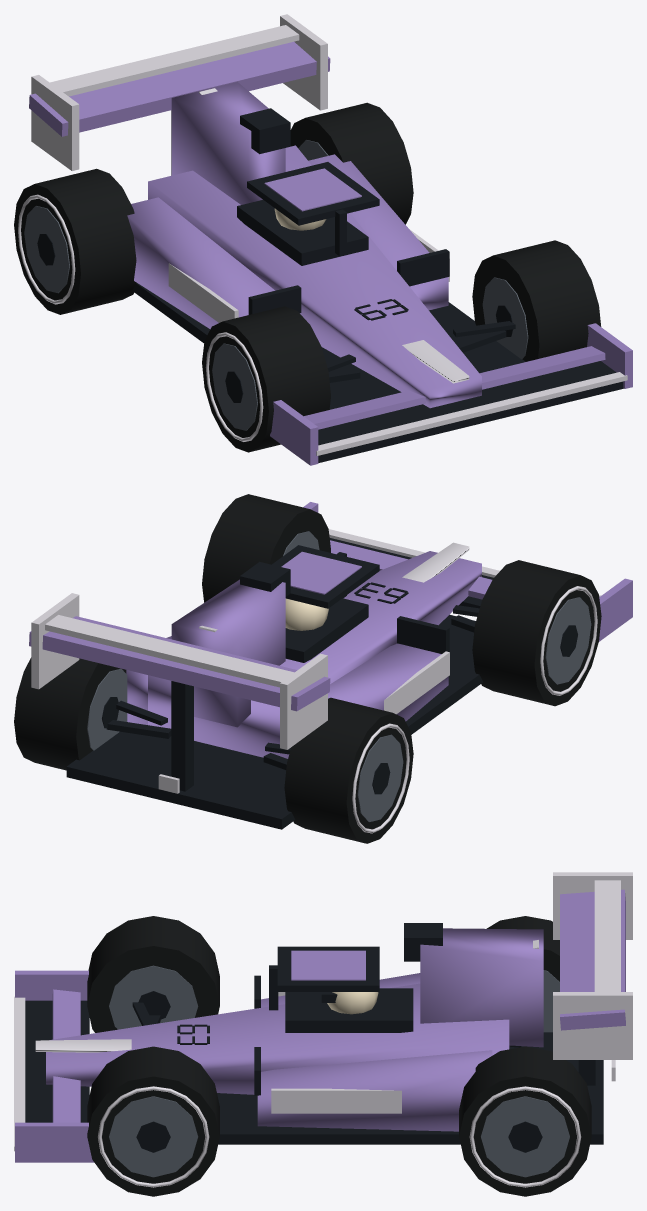
The model's file is orion-63.glb.
3 views of the same model, one above another, from view 1: azimuth 30°, elevation 25°; view 2: azimuth 150°, elevation 25°; view 3: azimuth 270°, elevation 25° (orthographic).
Visible parts, largest first — view 1: formula-63, wheel (×4); view 2: formula-63, wheel (×4); view 3: formula-63, wheel (×4).
Boxes of the visible parts, left/top/right/bottom form: formula-63: left=29, top=14, right=632, bottom=465; wheel (×4): left=14, top=102, right=601, bottom=452; formula-63: left=29, top=502, right=632, bottom=829; wheel (×4): left=14, top=494, right=601, bottom=843; formula-63: left=14, top=872, right=632, bottom=1162; wheel (×4): left=87, top=916, right=591, bottom=1196.
Bounding box in the file's own units: 3.37 × 1.79 × 5.41.
